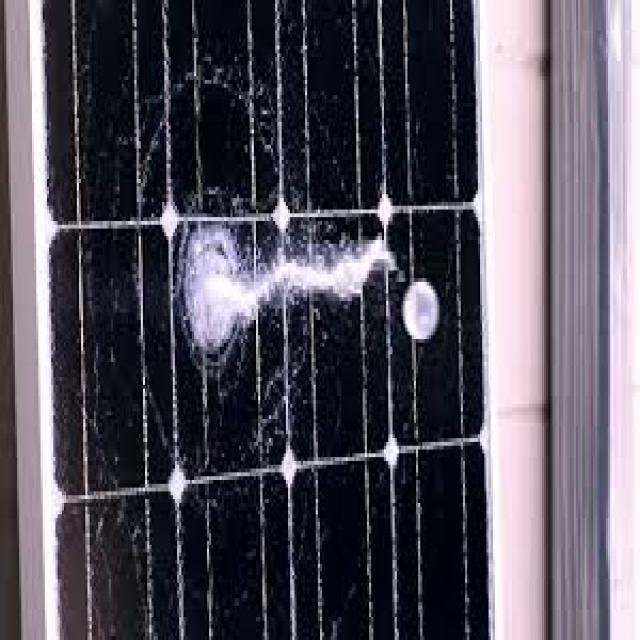faulty: (33, 0, 498, 640)
